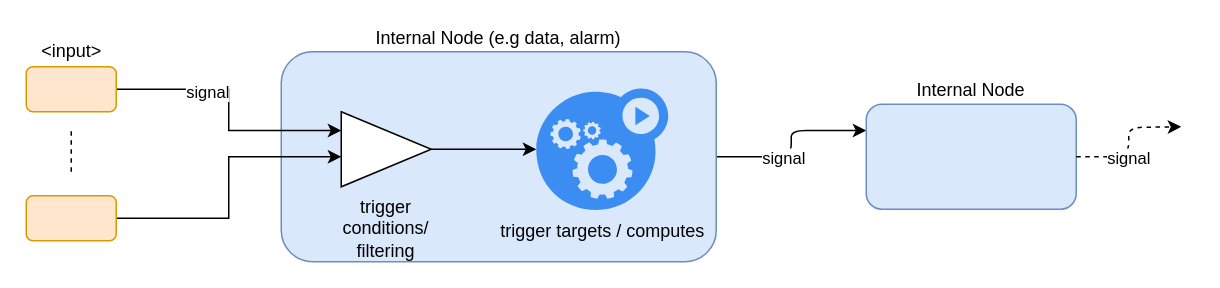
Image size: 1220x288. Some labels were removed from this diagram. The shapes that lost their labels are listed below. From the top down, each one's centre as x and y in pixels, then its label:
the point at 70,88: External Node 1
the point at 70,217: External Node N
